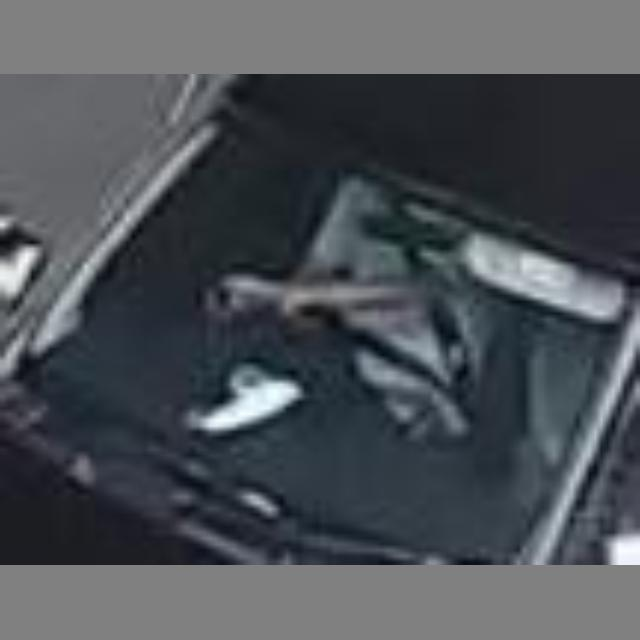pakai: (308, 187, 480, 424)
